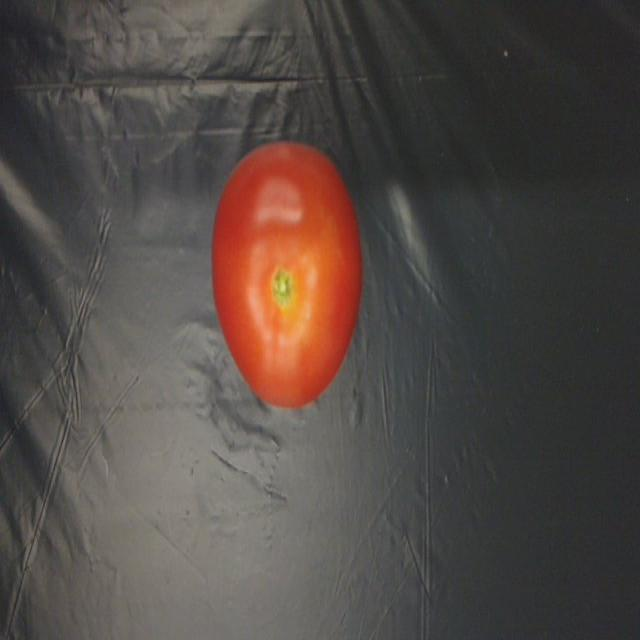kirmizi: (187, 136, 370, 414)
